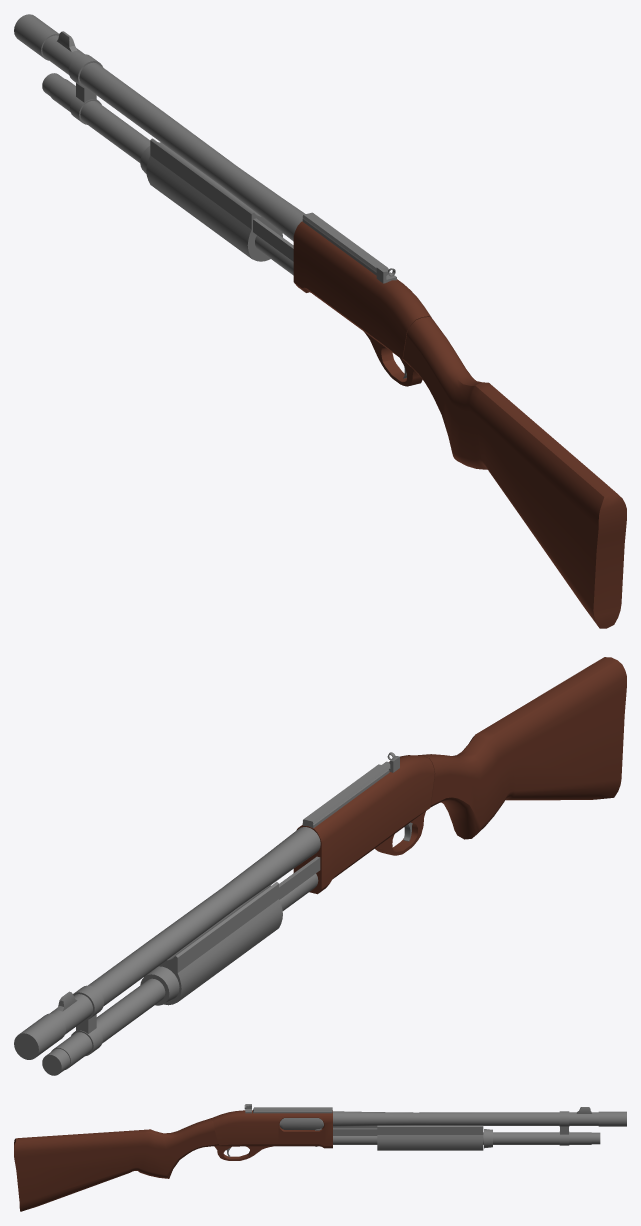
Rendered from weapon_shotgun.fbx.
The picture shows the model from 3 angles, top to bottom: view 1: azimuth 30°, elevation 25°; view 2: azimuth 150°, elevation 25°; view 3: azimuth 270°, elevation 25°; orthographic projection. The views are drawn at different scales.
Parts seen in each view (by area): view 1: BODY A; view 2: BODY A; view 3: BODY A.
Part boxes in pixels (<box>): BODY A: <box>14,14,626,628</box>; BODY A: <box>14,657,626,1075</box>; BODY A: <box>14,1104,626,1211</box>.
Size of the model in its own units: 54.3 by 299 by 1564.
